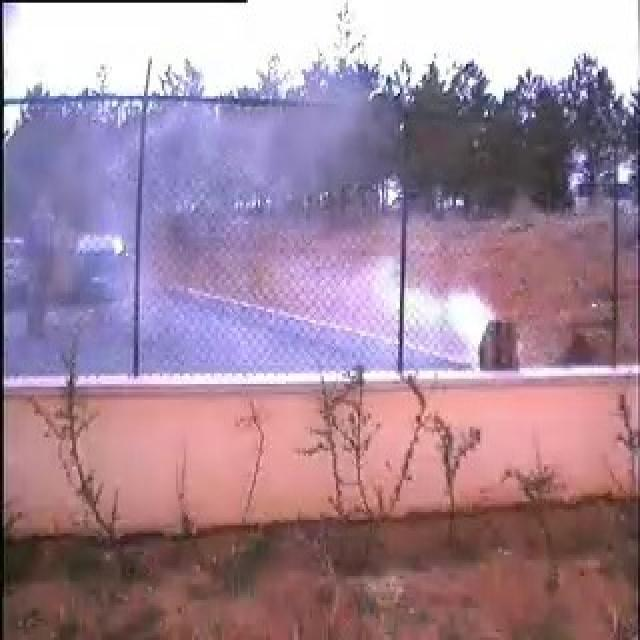Smoke: (124, 105, 484, 362)
